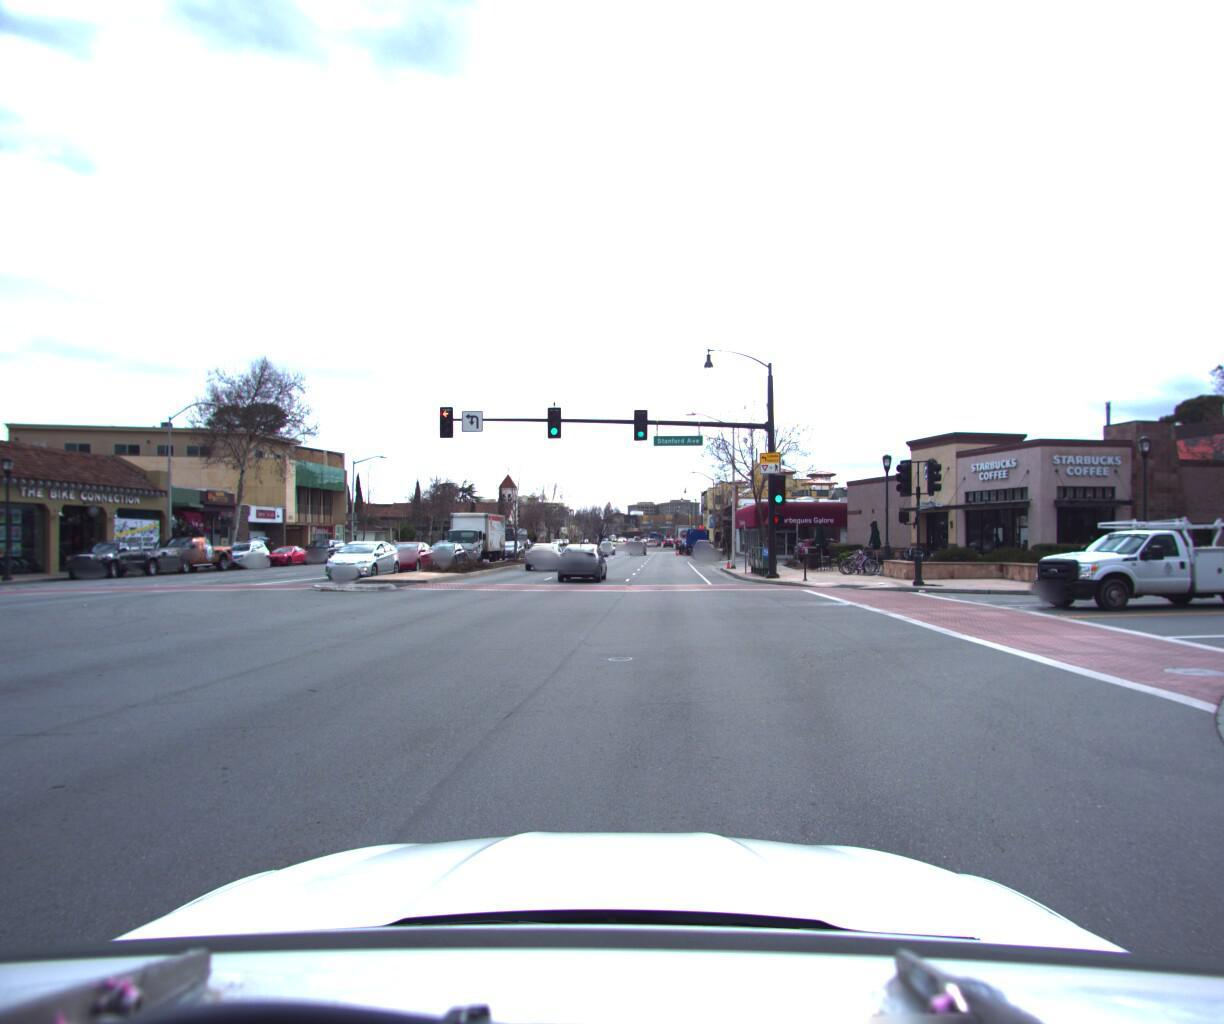bicycle: (832, 540, 881, 567), (836, 541, 881, 569)
car: (1014, 509, 1224, 609), (141, 513, 239, 573), (61, 537, 170, 579), (319, 535, 406, 578), (375, 535, 441, 569), (555, 537, 608, 579), (213, 532, 278, 565), (789, 531, 861, 557), (419, 535, 473, 564), (521, 537, 568, 567), (259, 540, 314, 563), (302, 534, 350, 559), (693, 536, 715, 554), (628, 534, 647, 550), (598, 533, 616, 549)
truck: (444, 507, 508, 559)
